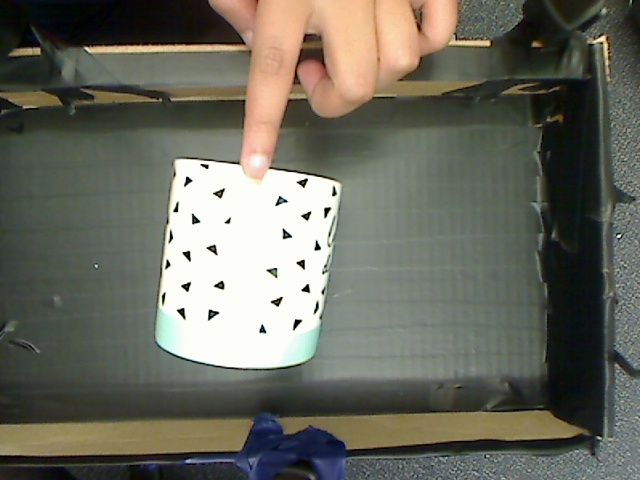mug: (121, 161, 362, 382)
